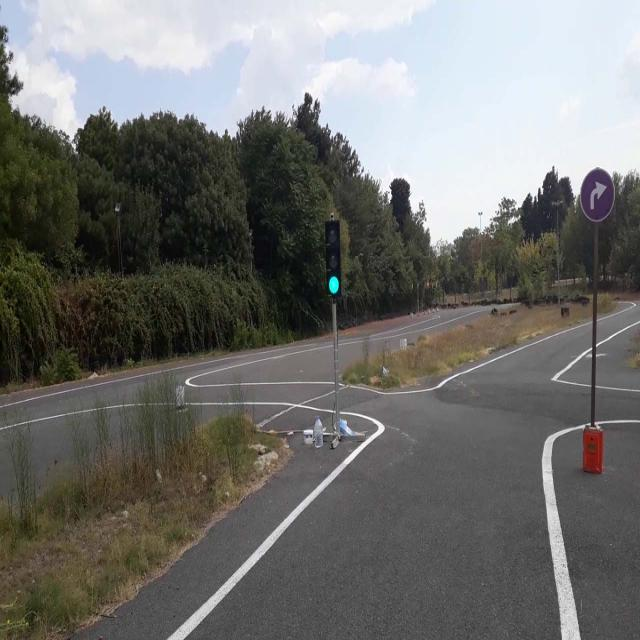sag: (581, 170, 616, 222)
yesil: (326, 220, 340, 296)
